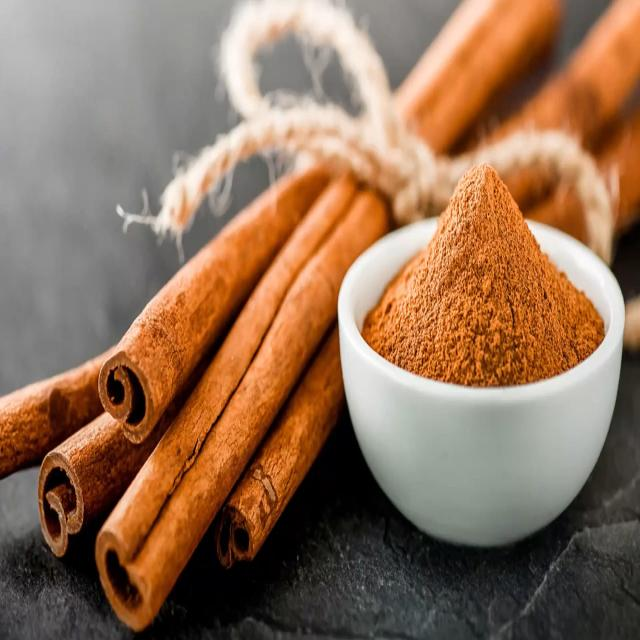Cinnamon: (96, 191, 389, 631), (99, 164, 329, 442), (215, 327, 345, 568), (395, 0, 562, 153), (490, 0, 640, 144), (1, 349, 112, 479), (198, 284, 260, 396), (451, 93, 455, 99)
